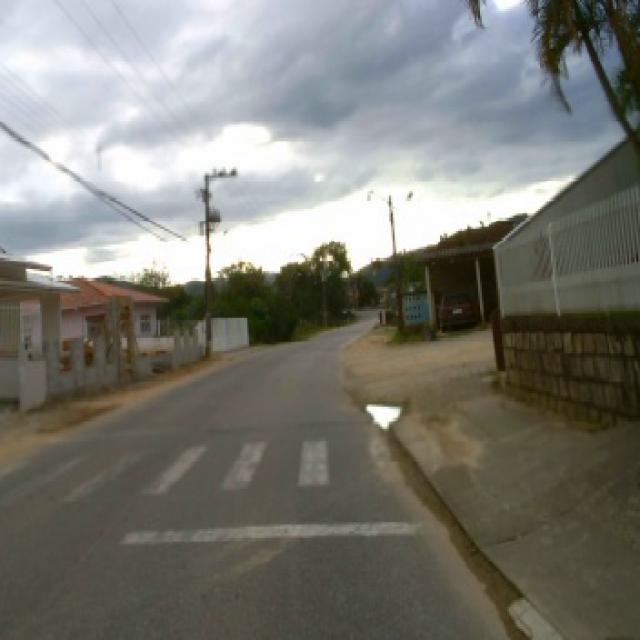Poth-hole: (362, 400, 402, 429)
